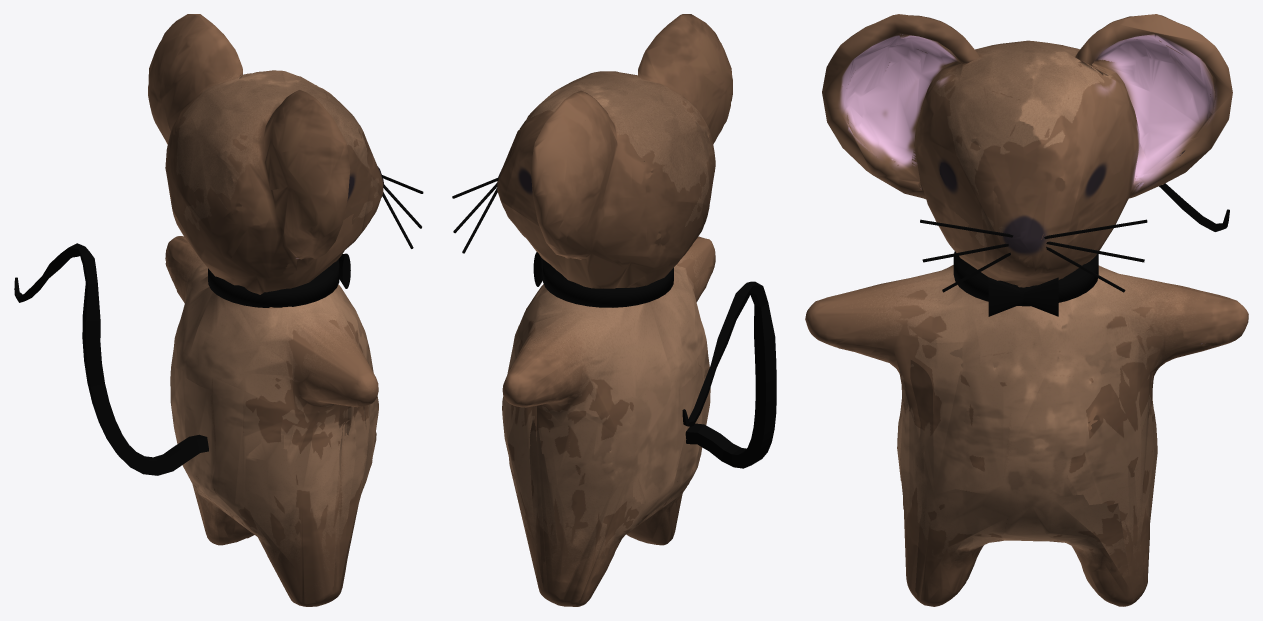
File: Mouse.fbx
3 views of the same model, side by side, from view 1: azimuth 30°, elevation 25°; view 2: azimuth 150°, elevation 25°; view 3: azimuth 270°, elevation 25° (orthographic). The views are drawn at different scales.
Parts seen in each view (by area): view 1: Mouse.001; view 2: Mouse.001; view 3: Mouse.001.
Boxes of the visible parts, x1,y1,x2,y2 form: Mouse.001: (14,14,423,606); Mouse.001: (452,14,776,606); Mouse.001: (805,14,1248,606).
Bounding box in the file's own units: 74.3 × 130 × 90.27.
2 materials, 1 textured.
